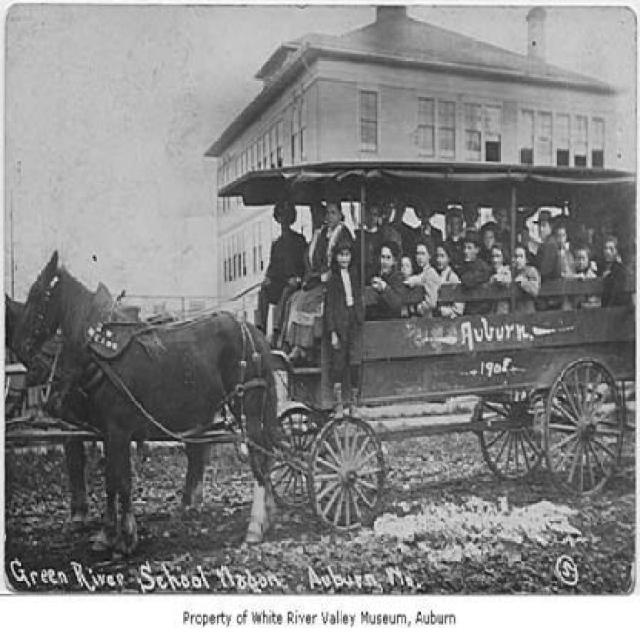obstacle: (293, 190, 355, 356), (276, 198, 330, 348), (256, 199, 309, 346), (323, 233, 363, 405), (534, 211, 561, 314), (354, 194, 384, 280), (372, 244, 403, 318), (462, 231, 489, 315), (434, 247, 464, 322), (601, 237, 630, 306), (417, 239, 441, 316), (552, 222, 573, 310), (574, 242, 601, 308), (414, 194, 443, 243), (516, 249, 538, 311), (490, 250, 510, 316), (379, 202, 403, 255), (482, 225, 510, 268), (402, 256, 418, 315), (444, 206, 464, 248), (515, 222, 533, 263), (396, 194, 409, 246), (494, 202, 508, 238), (465, 198, 477, 238)
